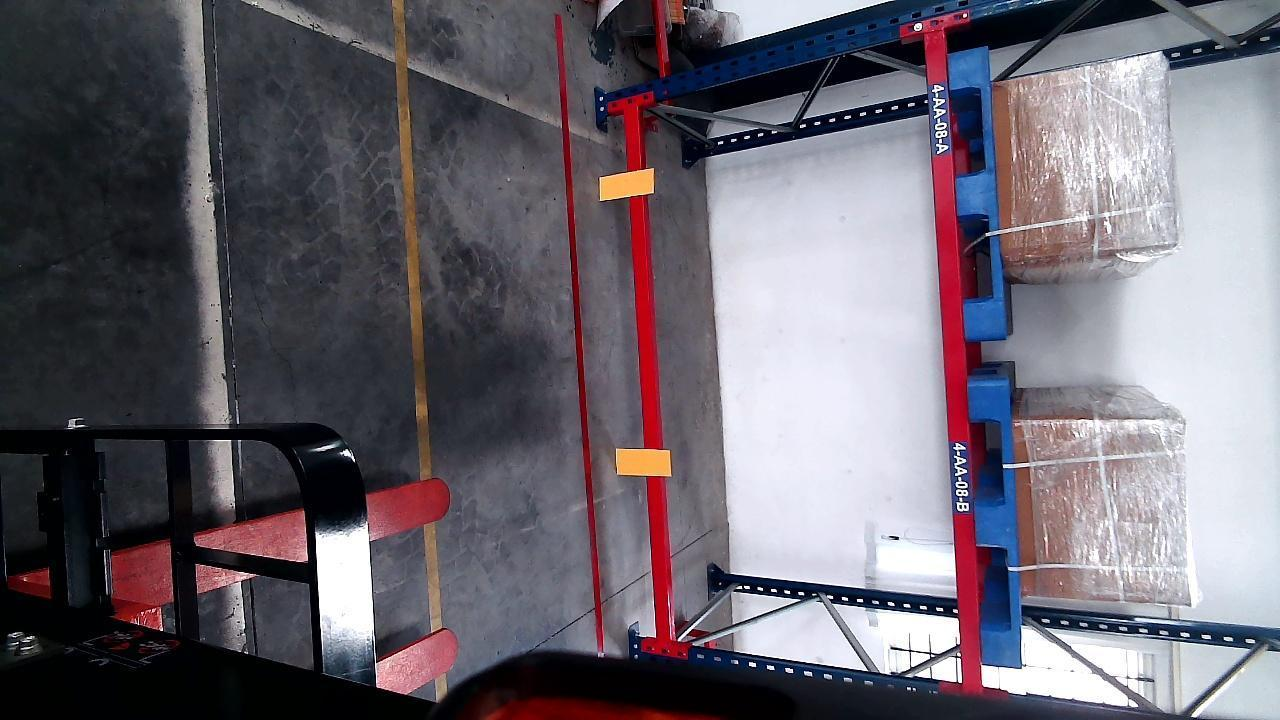h_rack: (927, 36, 983, 692), (626, 108, 670, 633)
orange_strip: (600, 168, 654, 199), (617, 447, 671, 476)
red_line: (549, 10, 610, 651)
small_pallet: (947, 47, 1007, 335), (968, 376, 1021, 656)
yellow_line: (393, 5, 450, 695)
